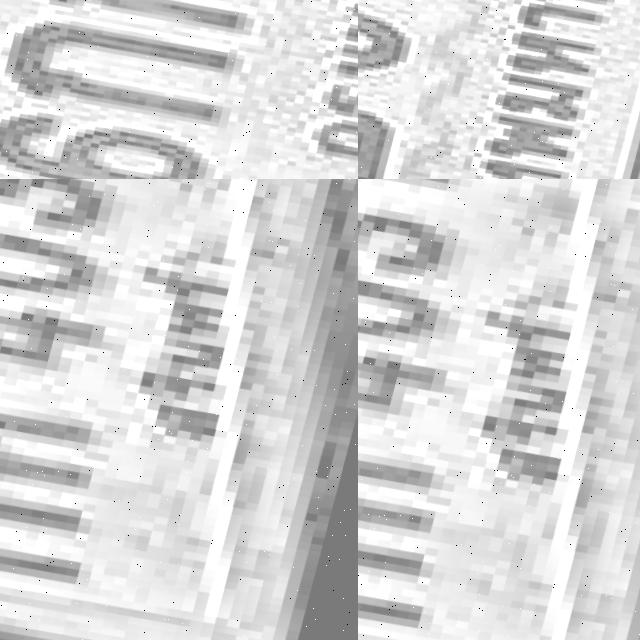license-plate: (0, 179, 358, 640), (358, 179, 640, 640), (0, 0, 358, 179), (358, 0, 640, 179)
